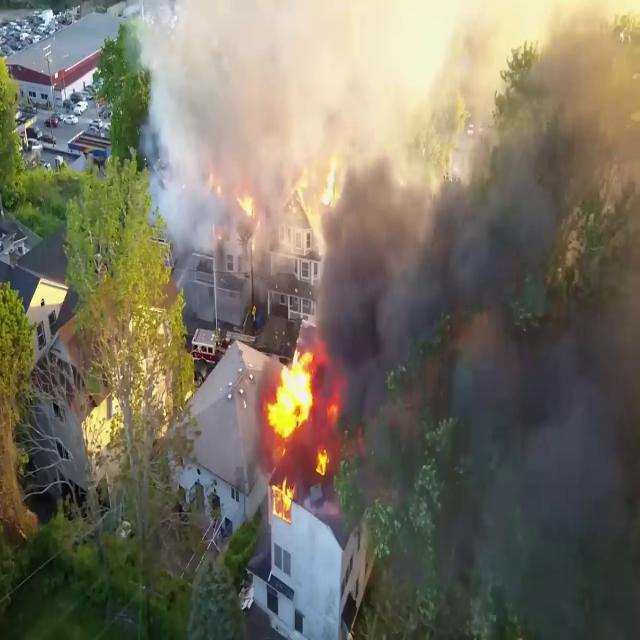Fire: (265, 340, 321, 444), (267, 476, 300, 530), (310, 443, 332, 481)
Smoke: (311, 1, 640, 630), (127, 0, 340, 274)
